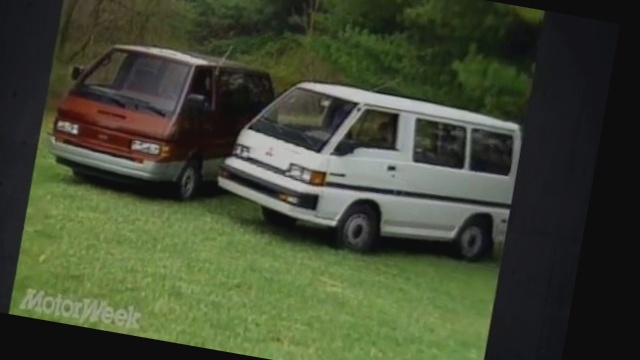van: (216, 68, 529, 271), (44, 32, 288, 210)
